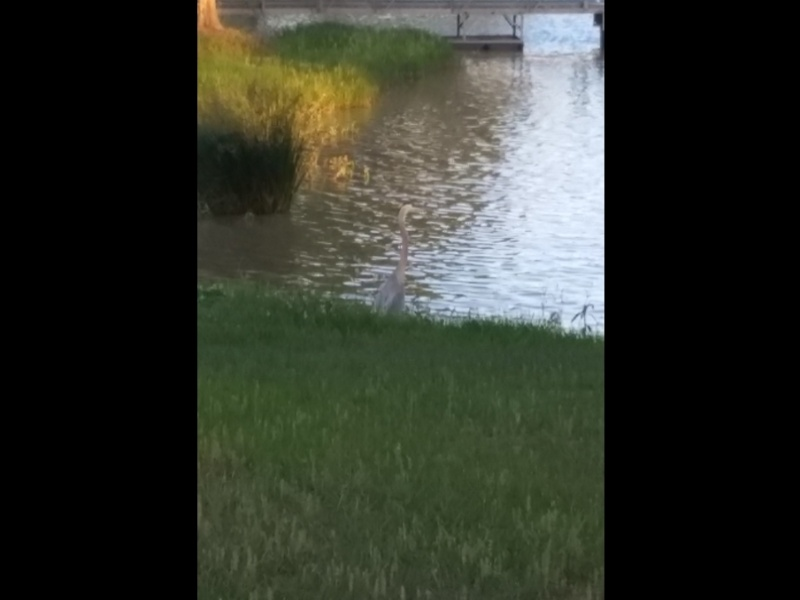heron: (369, 201, 422, 325)
